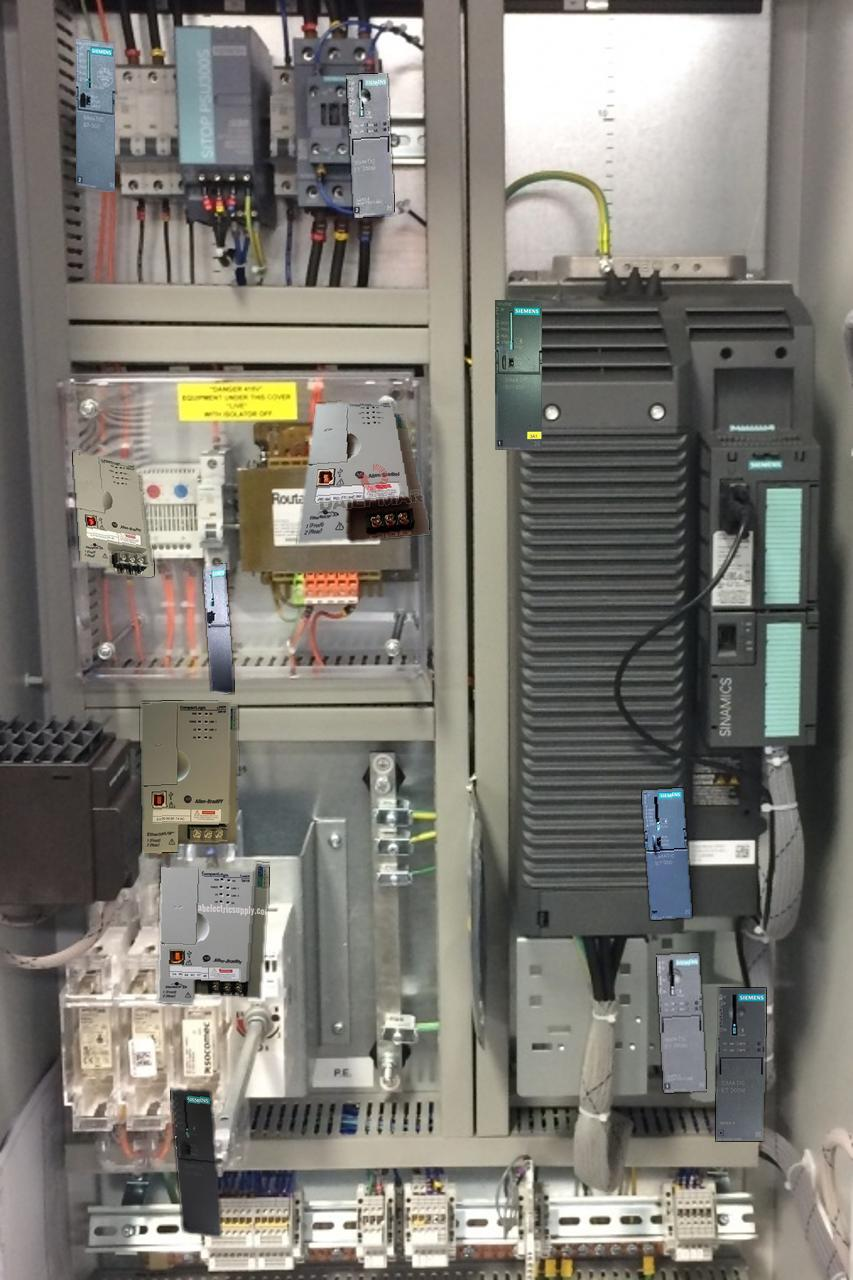AllenBradley: (297, 401, 429, 543), (157, 862, 269, 1003), (141, 701, 237, 852), (73, 451, 153, 576)
Siemens: (170, 1089, 220, 1236), (495, 300, 541, 449), (642, 788, 691, 919), (76, 39, 114, 191), (204, 563, 233, 692)
